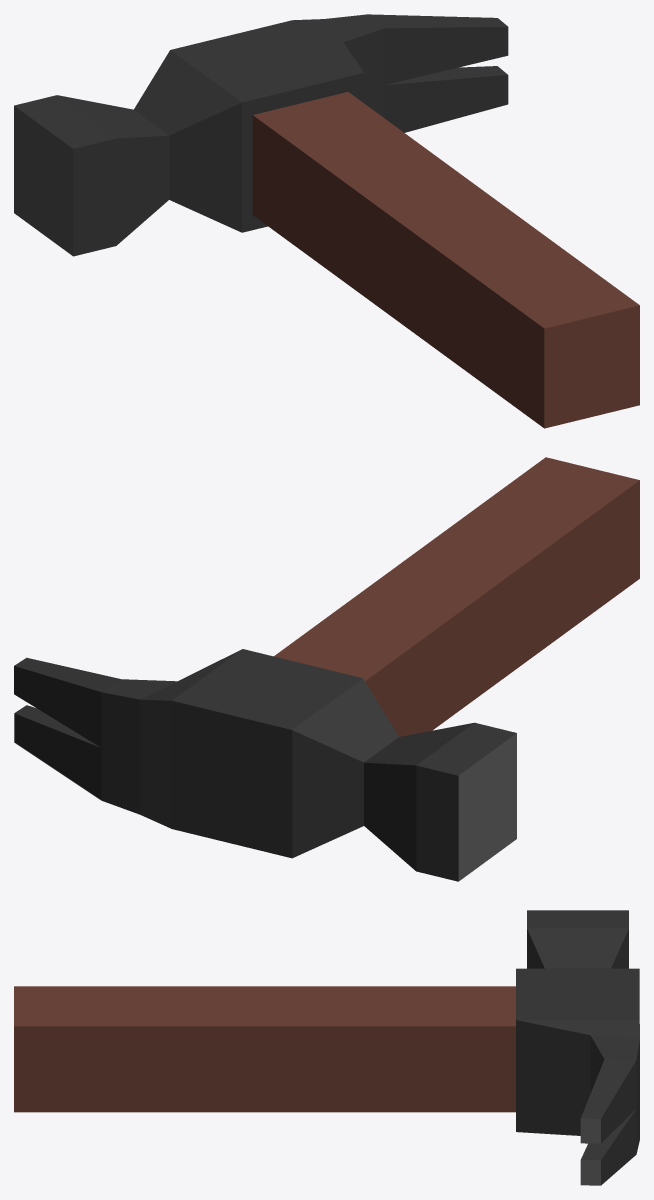
File: hummer_naildrawer.fbx
3 views of the same model, one above another, from view 1: azimuth 30°, elevation 25°; view 2: azimuth 150°, elevation 25°; view 3: azimuth 270°, elevation 25° (orthographic). The views are drawn at different scales.
Visible parts, largest first — view 1: hummer_naildrawer; view 2: hummer_naildrawer; view 3: hummer_naildrawer.
Part boxes in pixels (x1=…): hummer_naildrawer: x1=14, y1=14, x2=639, y2=428; hummer_naildrawer: x1=14, y1=457, x2=639, y2=881; hummer_naildrawer: x1=14, y1=910, x2=639, y2=1185.
Size of the model in its own units: 28.13 by 7.49 by 37.91.
